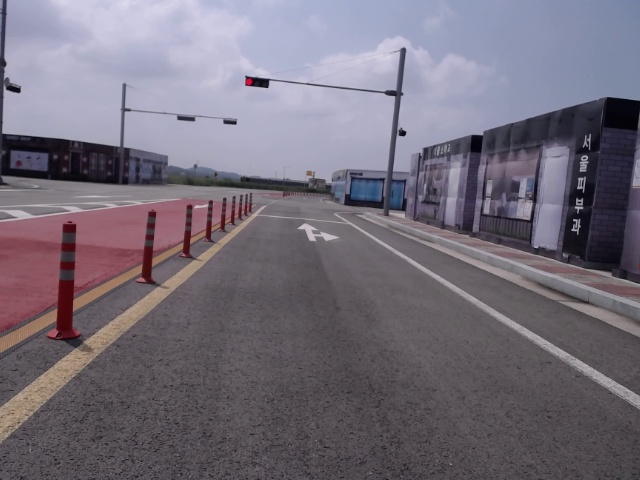red_3: (246, 78, 269, 87)
